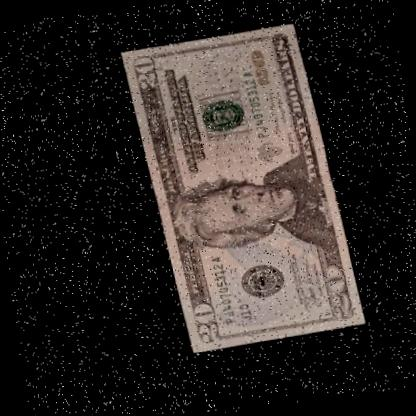dollar_front: (116, 20, 358, 359)
